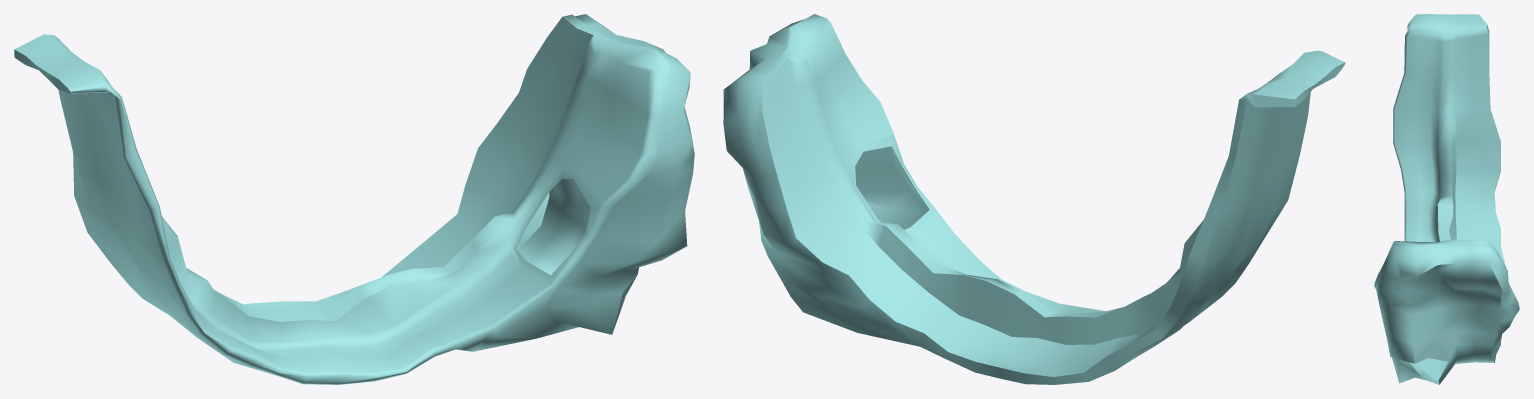
File: Rutsche.fbx
3 renders of one model, left to right at view 1: azimuth 30°, elevation 25°; view 2: azimuth 150°, elevation 25°; view 3: azimuth 270°, elevation 25°, orthographic. The views are drawn at different scales.
Parts seen in each view (by area): view 1: Rutsche; view 2: Rutsche; view 3: Rutsche.
Boxes of the visible parts, x1,y1,x2,y2 form: Rutsche: (14,14,694,384); Rutsche: (723,14,1345,384); Rutsche: (1374,14,1519,384).
Bounding box in the file's own units: 8118 × 4686 × 2809.
